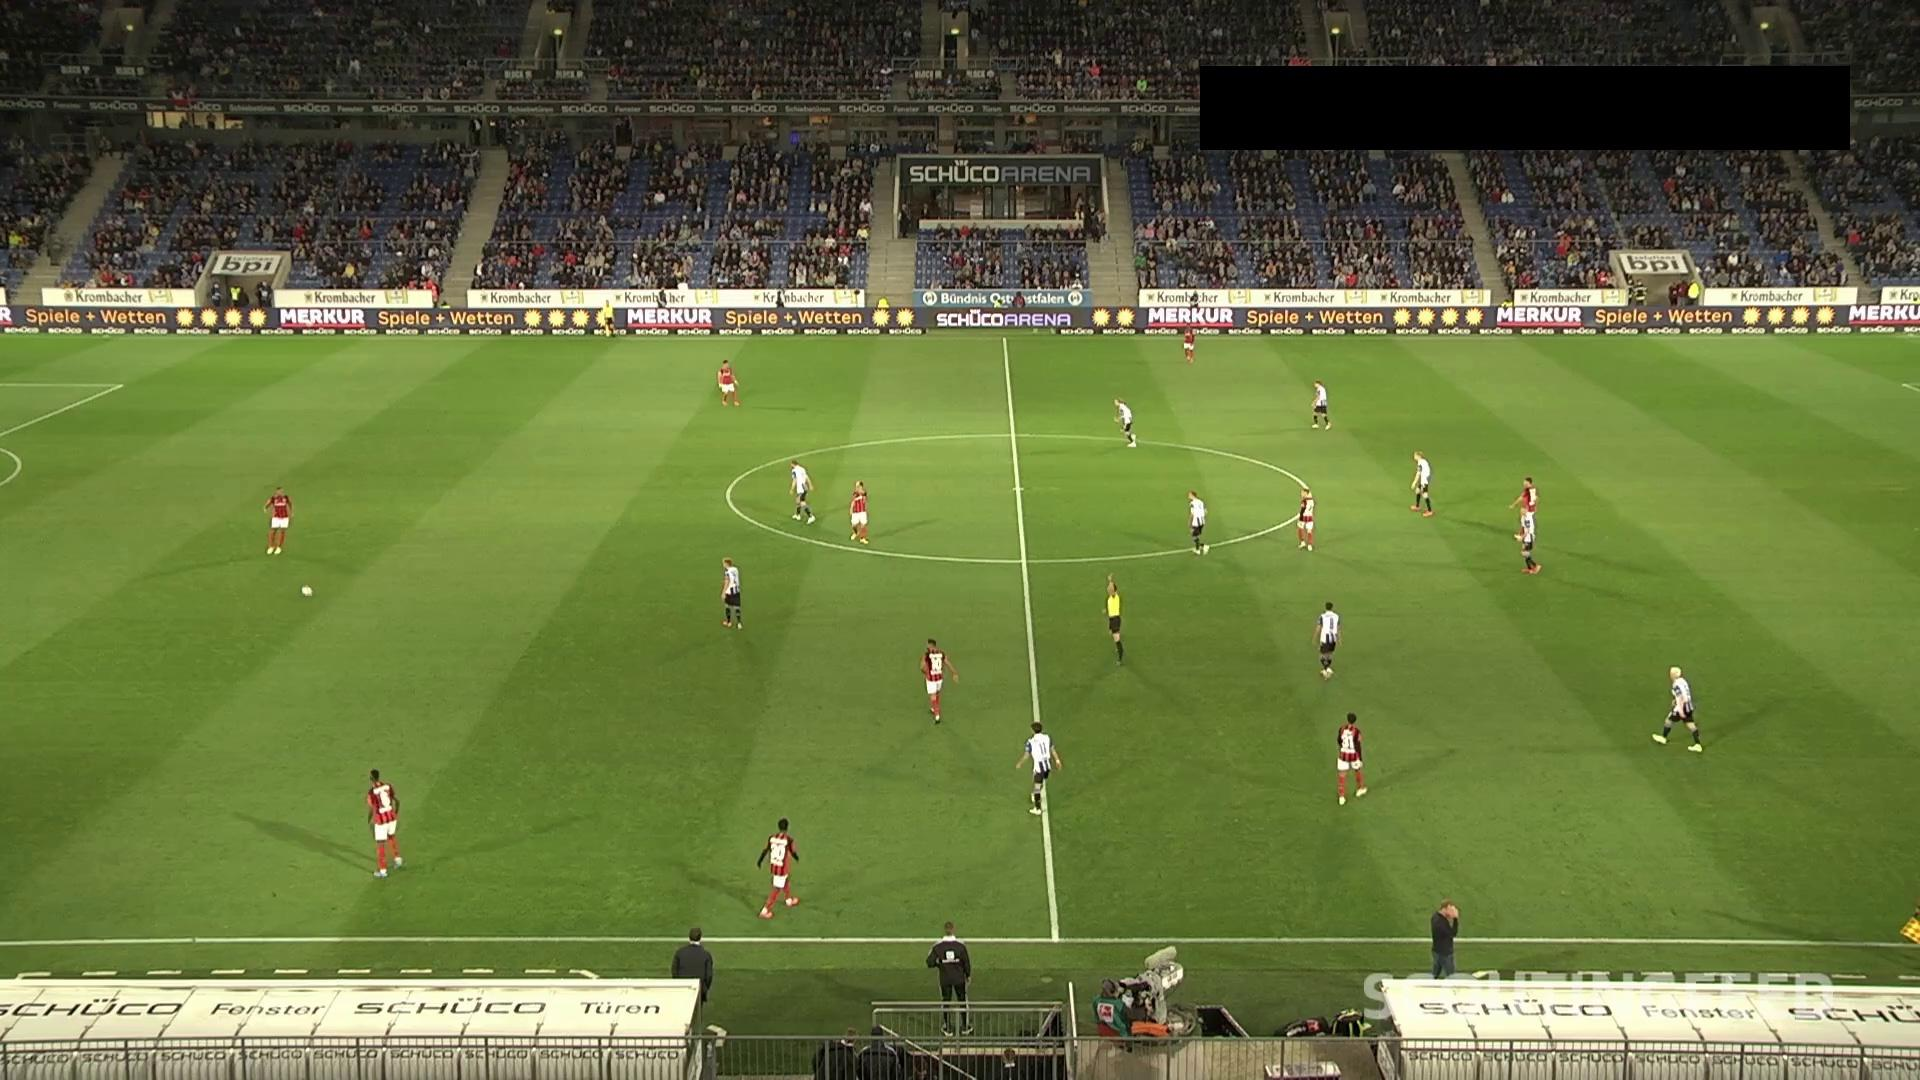Location-of-ball: (297, 573, 327, 610)
